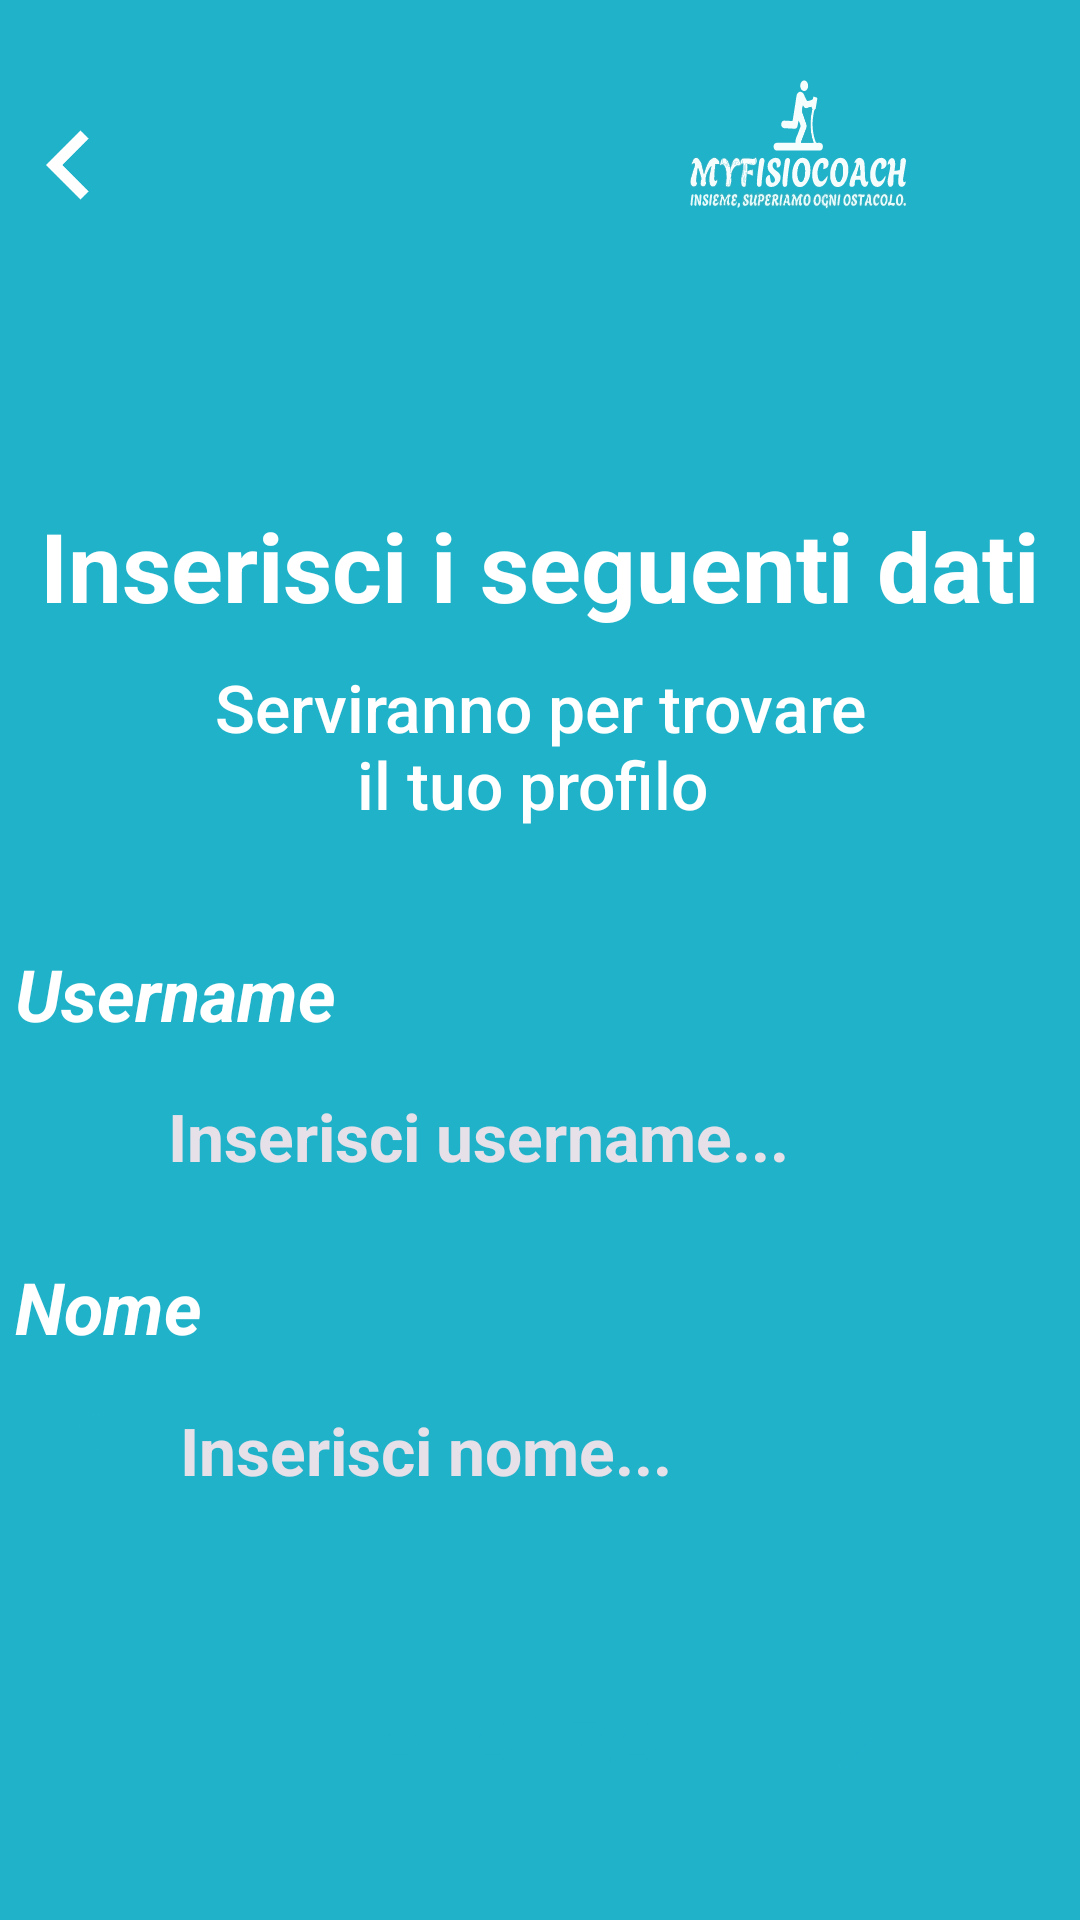

Named icons in this screenshot (1080*1920) and their centers, [x,y]:
chevron left: [67,165]
